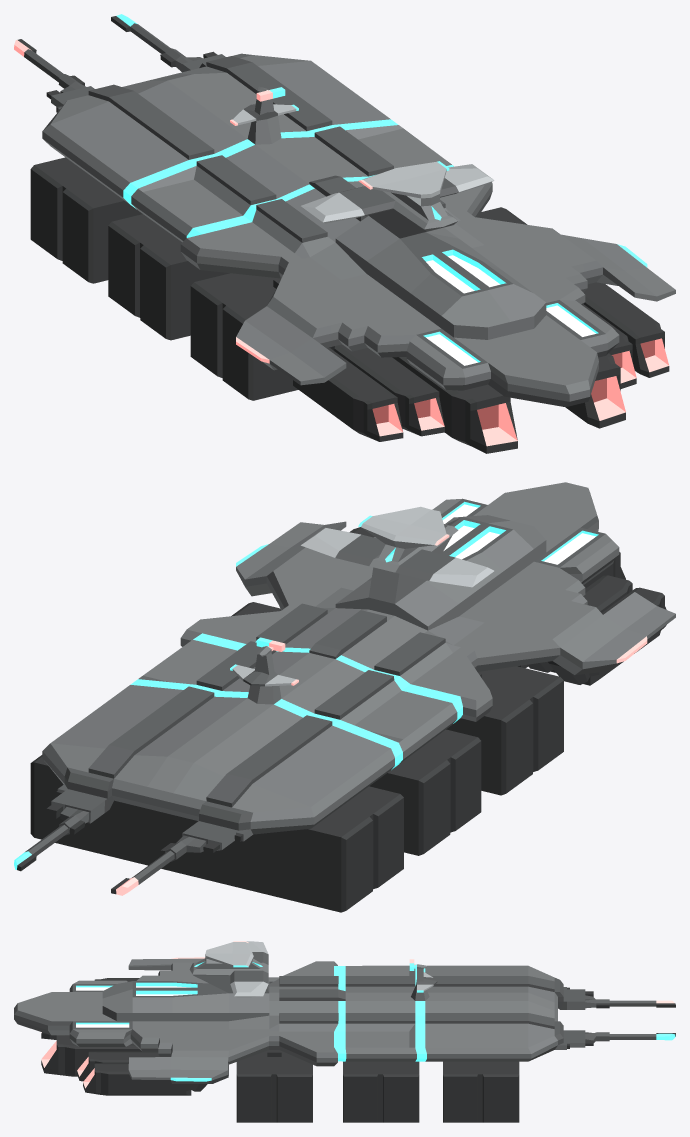
File: Cargo_L_LODGroup.fbx
The picture shows the model from 3 angles, top to bottom: view 1: azimuth 30°, elevation 25°; view 2: azimuth 150°, elevation 25°; view 3: azimuth 270°, elevation 25°; orthographic projection. The views are drawn at different scales.
Visible parts, largest first — view 1: Cargo L_LOD0; view 2: Cargo L_LOD0; view 3: Cargo L_LOD0.
Part boxes in pixels (<box>): Cargo L_LOD0: <box>14,14,675,453</box>; Cargo L_LOD0: <box>14,482,675,912</box>; Cargo L_LOD0: <box>14,941,675,1122</box>.
Size of what is drawn, in the model's own units: 172 by 79.32 by 392.
